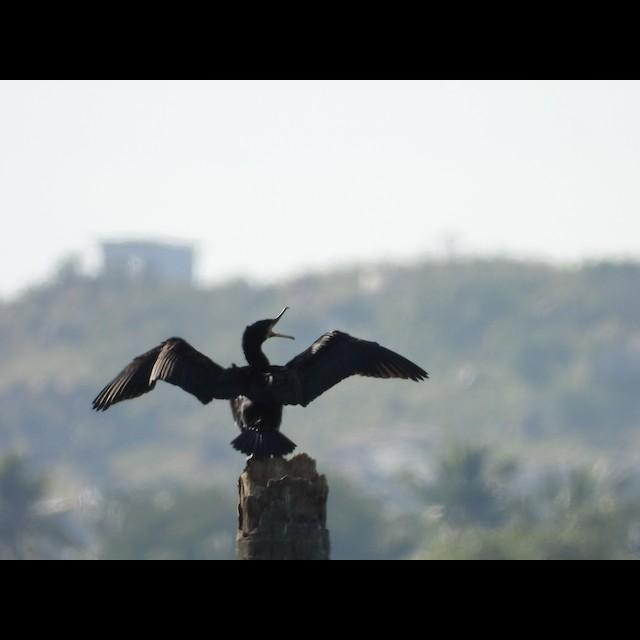cormorant: (93, 306, 427, 452)
